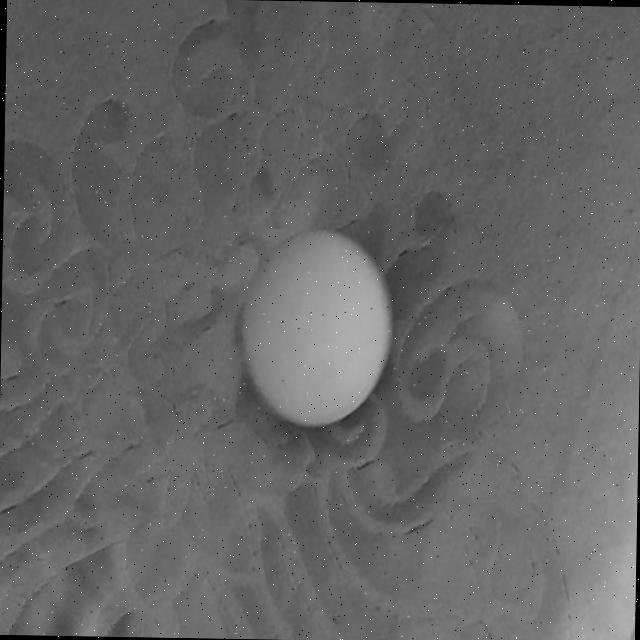ping-pong-ball: (242, 235, 386, 423)
